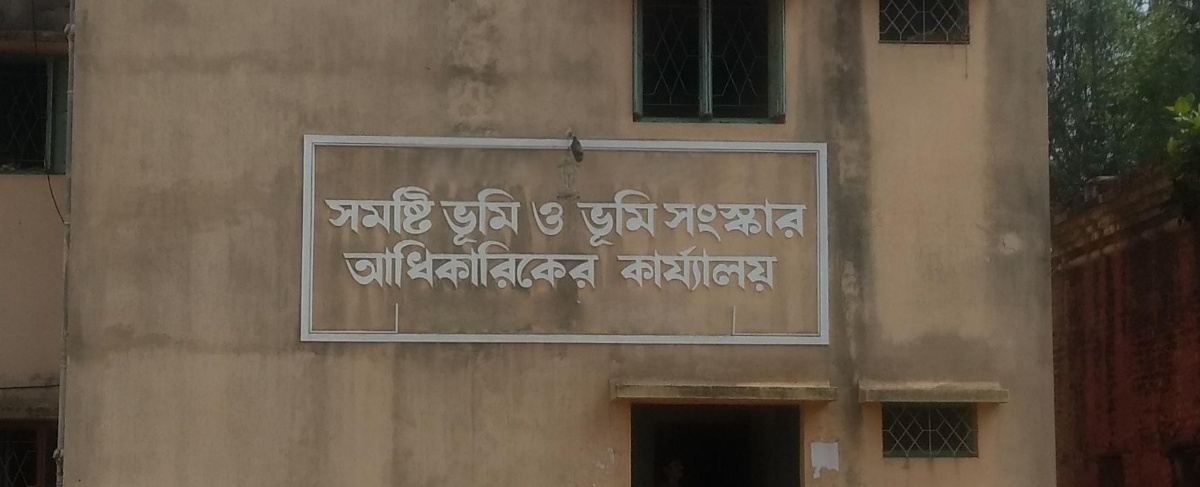text: (449, 187, 464, 248), (465, 187, 480, 248), (481, 187, 496, 248), (497, 187, 512, 248), (577, 189, 592, 250), (593, 189, 608, 250), (609, 189, 624, 250), (625, 189, 640, 250), (641, 189, 656, 250), (337, 183, 352, 238), (353, 183, 368, 238), (369, 183, 384, 238), (385, 183, 400, 238), (401, 183, 416, 238), (417, 183, 432, 238), (353, 239, 368, 292), (369, 239, 384, 292), (385, 239, 400, 292), (401, 239, 416, 292), (417, 239, 432, 292), (433, 239, 448, 292), (449, 239, 464, 292), (465, 239, 480, 292), (481, 239, 496, 292), (497, 239, 512, 292), (513, 239, 528, 292), (529, 239, 544, 292), (545, 239, 560, 292), (561, 239, 576, 292), (577, 239, 592, 292), (625, 242, 640, 293), (641, 242, 656, 293), (657, 242, 672, 293), (673, 242, 688, 293), (689, 242, 704, 293), (705, 242, 720, 293), (721, 242, 736, 293), (737, 242, 752, 293), (753, 242, 768, 293), (673, 196, 688, 242), (689, 196, 704, 242), (705, 196, 720, 242), (721, 196, 736, 242), (737, 196, 752, 242), (753, 196, 768, 242), (769, 196, 784, 242), (785, 196, 800, 242), (324, 183, 336, 238), (545, 197, 560, 238), (513, 187, 523, 248), (593, 239, 604, 292), (530, 197, 544, 238), (769, 242, 779, 293), (343, 239, 352, 292), (441, 187, 448, 248), (663, 196, 672, 242), (801, 196, 810, 242), (618, 242, 624, 293), (657, 189, 661, 250), (561, 197, 566, 238), (433, 183, 436, 238), (574, 189, 576, 250)
